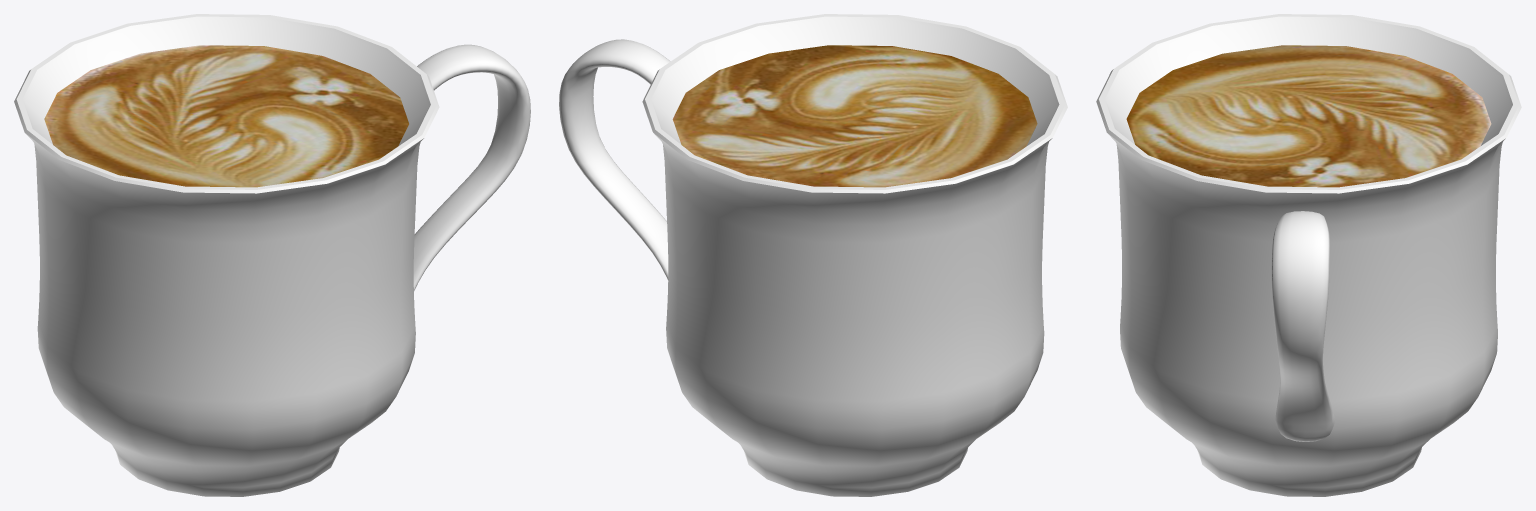
File: Coffee cup.fbx
3 views of the same model, side by side, from view 1: azimuth 30°, elevation 25°; view 2: azimuth 150°, elevation 25°; view 3: azimuth 270°, elevation 25° (orthographic).
Parts seen in each view (by area): view 1: Coffee Cup; view 2: Coffee Cup; view 3: Coffee Cup.
Part boxes in pixels (<box>): Coffee Cup: <box>14,14,530,496</box>; Coffee Cup: <box>559,14,1067,496</box>; Coffee Cup: <box>1096,14,1521,496</box>.
Size of the model in its own units: 10.8 by 7.56 by 8.38.
Materials: 1 (1 with a texture image).
